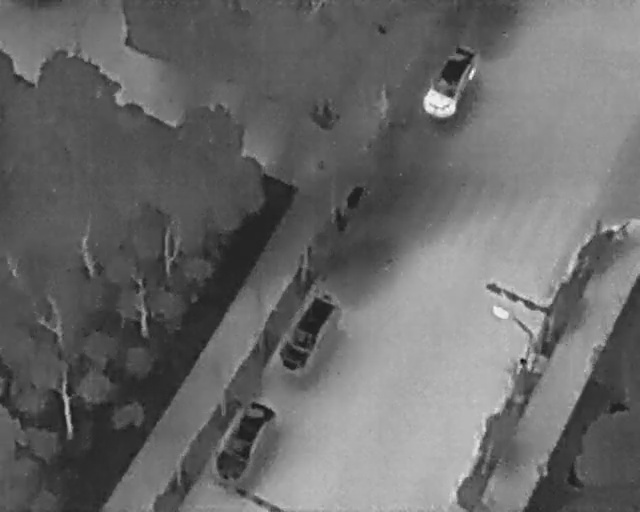Car: (206, 394, 281, 491), (271, 284, 345, 379), (416, 37, 483, 126)
